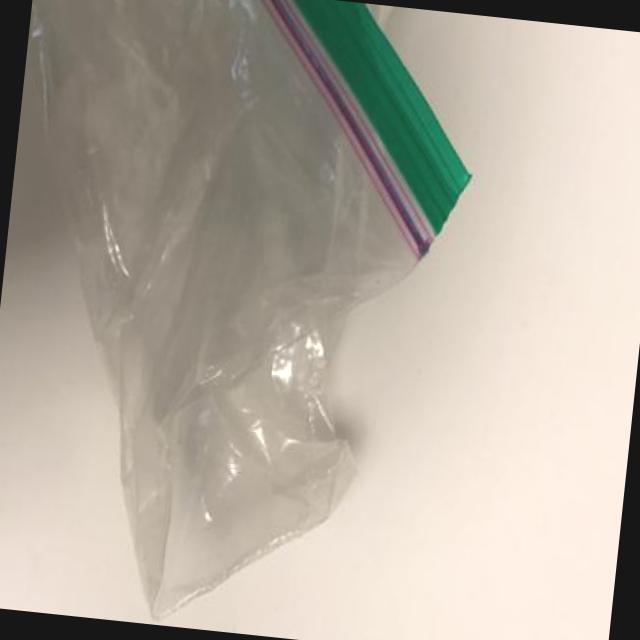tui_ni_long: (28, 0, 469, 620)
